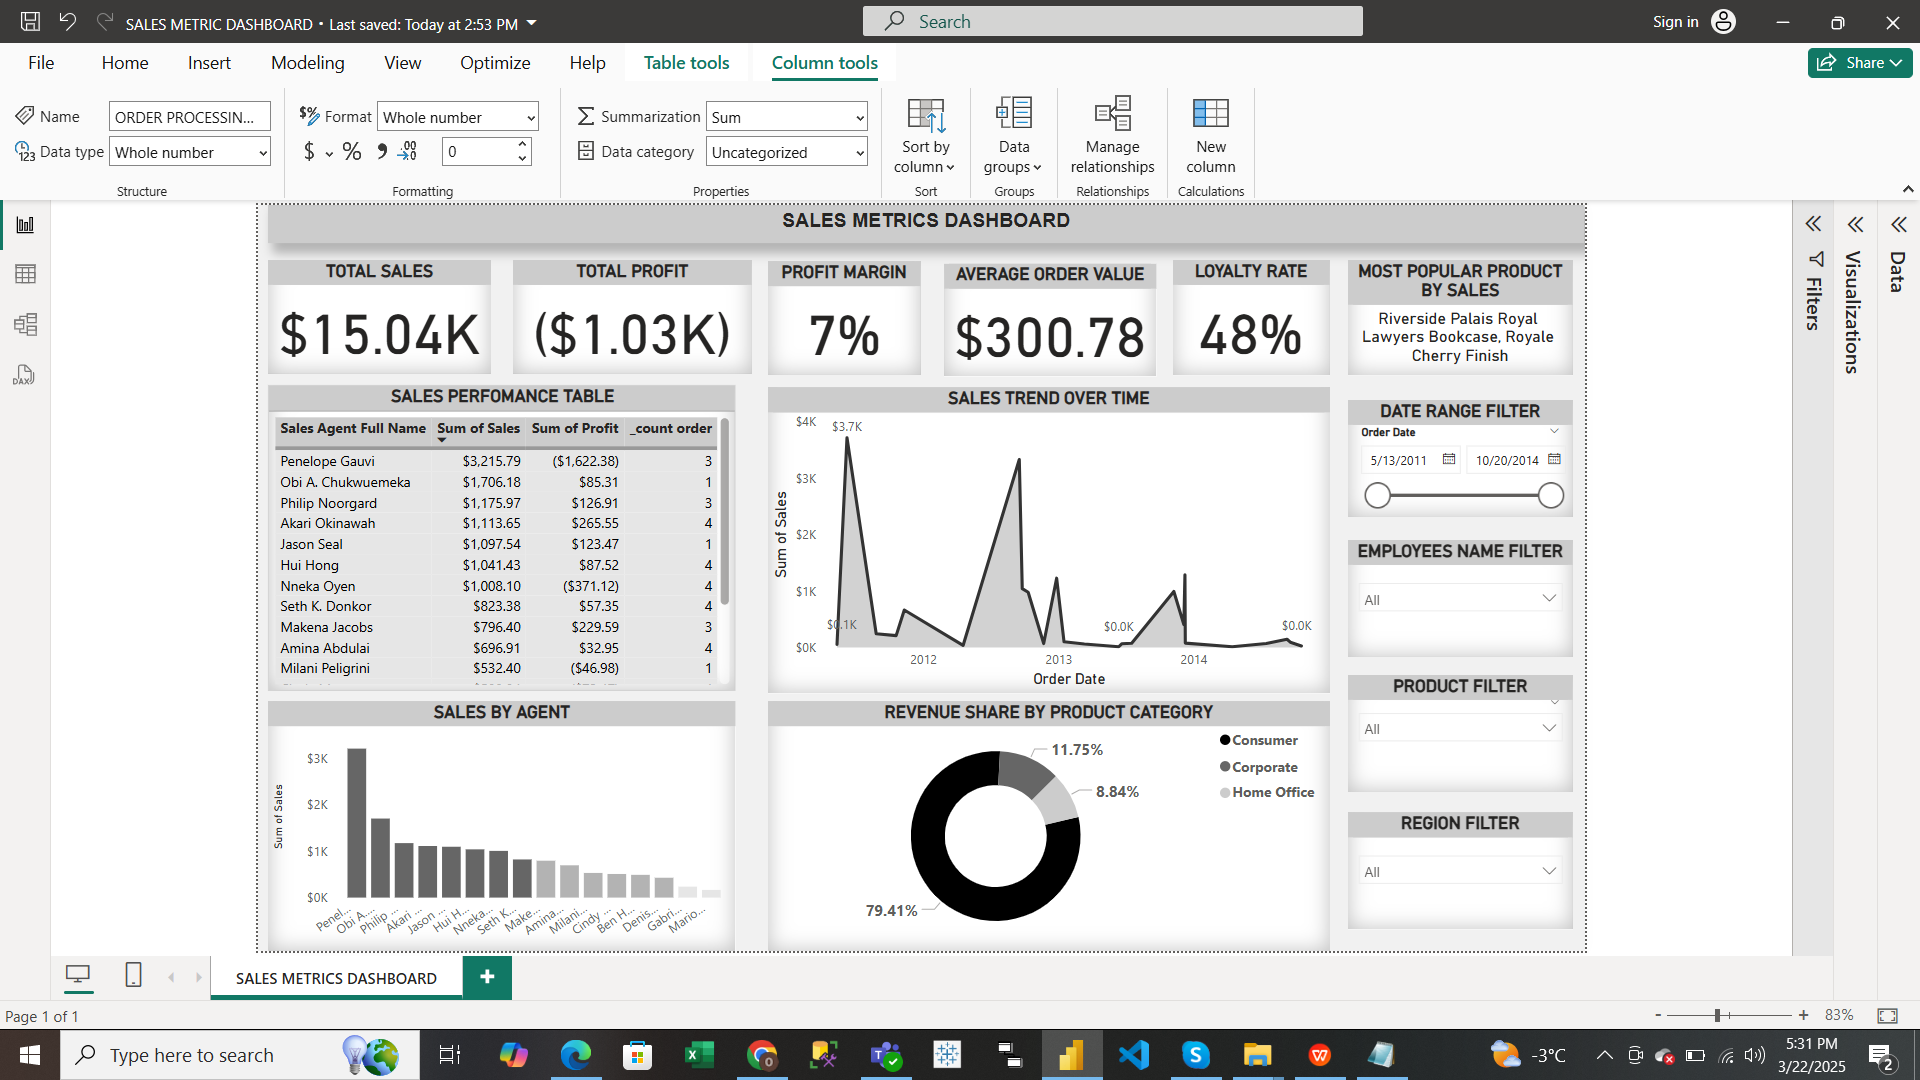

Layout of this report page (visuals, bound fields, positions):
{"tool":"powerbi","page":{"name":"SALES METRICS DASHBOARD","canvas":[1280,720],"ordinal":0},"visuals":[{"type":"textbox","box":[9.6,0,1270.7,37],"z":0},{"type":"card","title":"TOTAL SALES","fields":{"Values":["Orders._sum of sales"]},"box":[9.6,53.5,215.4,109.8],"z":1000},{"type":"card","title":"TOTAL PROFIT","fields":{"Values":["Orders._total profit"]},"box":[245.6,53.5,230.5,109.8],"z":2000},{"type":"card","title":"PROFIT MARGIN","fields":{"Values":["Orders._profit margin"]},"box":[492.6,54.9,146.8,109.8],"z":3000},{"type":"card","title":"AVERAGE ORDER VALUE","fields":{"Values":["Orders._avg order value"]},"box":[662.8,56.3,204.5,108.4],"z":4000},{"type":"card","title":"LOYALTY RATE","fields":{"Values":["Orders._repeat customers"]},"box":[883.7,53.5,150.9,111.1],"z":5000},{"type":"card","title":"MOST POPULAR PRODUCT BY SALES","fields":{"Values":["Min(Orders._most popular product)"]},"box":[1052.5,53.5,216.8,111.1],"z":6000},{"type":"lineChart","title":"SALES TREND OVER TIME","fields":{"Y":["Sum(Orders.Sales)"],"Category":["Orders.Order Date"]},"box":[492.6,175.6,542,295],"z":7000},{"type":"tableEx","title":"SALES PERFOMANCE TABLE","fields":{"Values":["Orders.Sales Agent Full Name","Sum(Orders.Sales)","Sum(Orders.Profit)","Orders._count order"]},"box":[9.6,174.3,451.5,295],"z":8000},{"type":"columnChart","title":"SALES BY AGENT","fields":{"Category":["Orders.Sales Agent Full Name"],"Y":["Sum(Orders.Sales)"]},"box":[9.6,479.3,451.5,240.7],"z":9000},{"type":"donutChart","title":"REVENUE SHARE BY PRODUCT CATEGORY","fields":{"Category":["Orders.Segment"],"Y":["Sum(Orders.Sales)"]},"box":[492.6,478.9,542,241.5],"z":10000},{"type":"slicer","title":"DATE RANGE FILTER","fields":{"Values":["Orders.Order Date"]},"box":[1052.5,188,216.8,112.5],"z":11000},{"type":"slicer","title":"EMPLOYEES NAME FILTER","fields":{"Values":["Orders.Sales Agent Full Name"]},"box":[1052.5,323.8,216.8,112.5],"z":12000},{"type":"slicer","title":"PRODUCT  FILTER","fields":{"Values":["Orders.Sub-Category"]},"box":[1052.5,454.2,216.8,112.5],"z":13000},{"type":"slicer","title":"REGION  FILTER","fields":{"Values":["Orders.Region"]},"box":[1052.5,585.9,216.8,112.5],"z":13001}]}

Visuals, with their boxes on the page's 1280x720 design canvas (x1, y1, x2, y2). These are canvas units, not pixel positions in the 1920x1080 screenshot, which may show the page scaled, cropped or inside an application window:
textbox: rect(10, 0, 1280, 37)
"TOTAL SALES" card: rect(10, 54, 225, 163)
"TOTAL PROFIT" card: rect(246, 54, 476, 163)
"PROFIT MARGIN" card: rect(493, 55, 639, 165)
"AVERAGE ORDER VALUE" card: rect(663, 56, 867, 165)
"LOYALTY RATE" card: rect(884, 54, 1035, 165)
"MOST POPULAR PRODUCT BY SALES" card: rect(1052, 54, 1269, 165)
"SALES TREND OVER TIME" lineChart: rect(493, 176, 1035, 471)
"SALES PERFOMANCE TABLE" tableEx: rect(10, 174, 461, 469)
"SALES BY AGENT" columnChart: rect(10, 479, 461, 720)
"REVENUE SHARE BY PRODUCT CATEGORY" donutChart: rect(493, 479, 1035, 720)
"DATE RANGE FILTER" slicer: rect(1052, 188, 1269, 300)
"EMPLOYEES NAME FILTER" slicer: rect(1052, 324, 1269, 436)
"PRODUCT  FILTER" slicer: rect(1052, 454, 1269, 567)
"REGION  FILTER" slicer: rect(1052, 586, 1269, 698)
